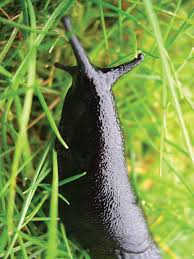slug: (60, 17, 160, 259)
